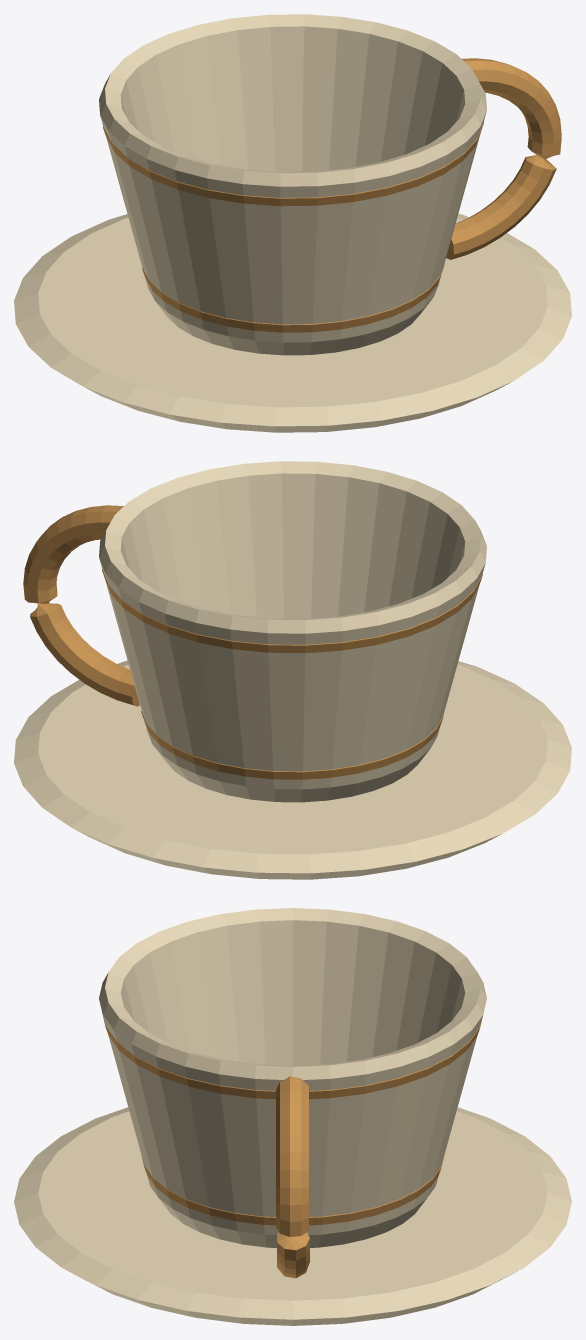
The model's file is GiantCup.obj.
The picture shows the model from 3 angles, top to bottom: view 1: azimuth 30°, elevation 25°; view 2: azimuth 150°, elevation 25°; view 3: azimuth 270°, elevation 25°; orthographic projection.
Parts seen in each view (by area): view 1: GiantCup; view 2: GiantCup; view 3: GiantCup.
Part boxes in pixels (left/top/right/bottom): GiantCup: left=14, top=14, right=571, bottom=432; GiantCup: left=14, top=461, right=571, bottom=879; GiantCup: left=14, top=908, right=571, bottom=1325.
Bounding box in the file's own units: 4.84 × 2.1 × 4.6.
